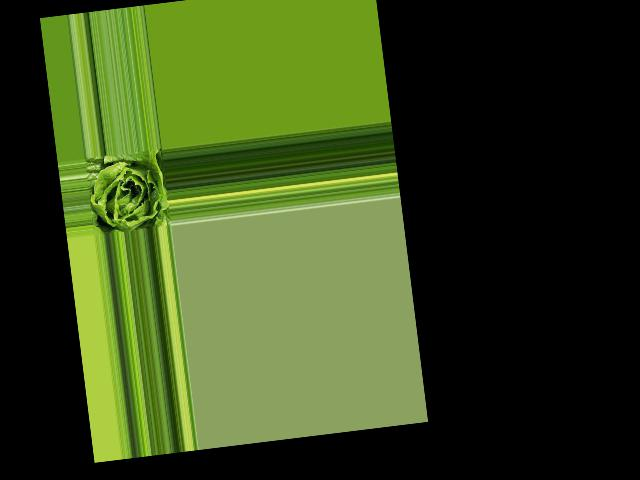lettuce: (85, 148, 170, 234)
